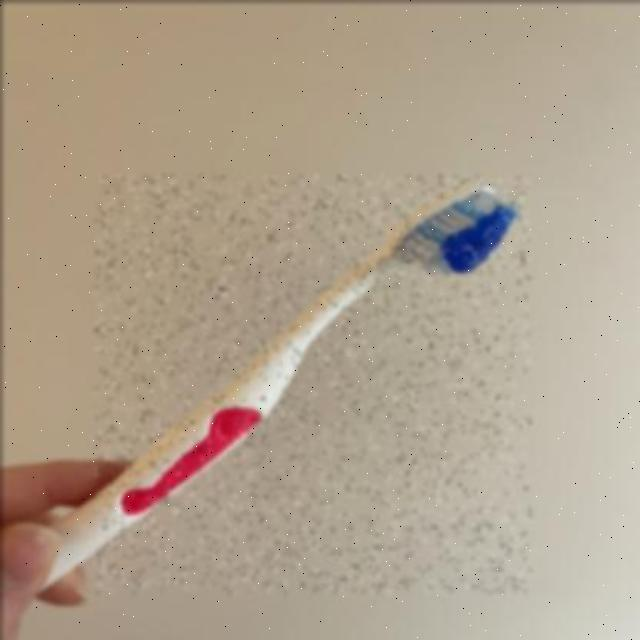toothbrush: (94, 175, 530, 593)
